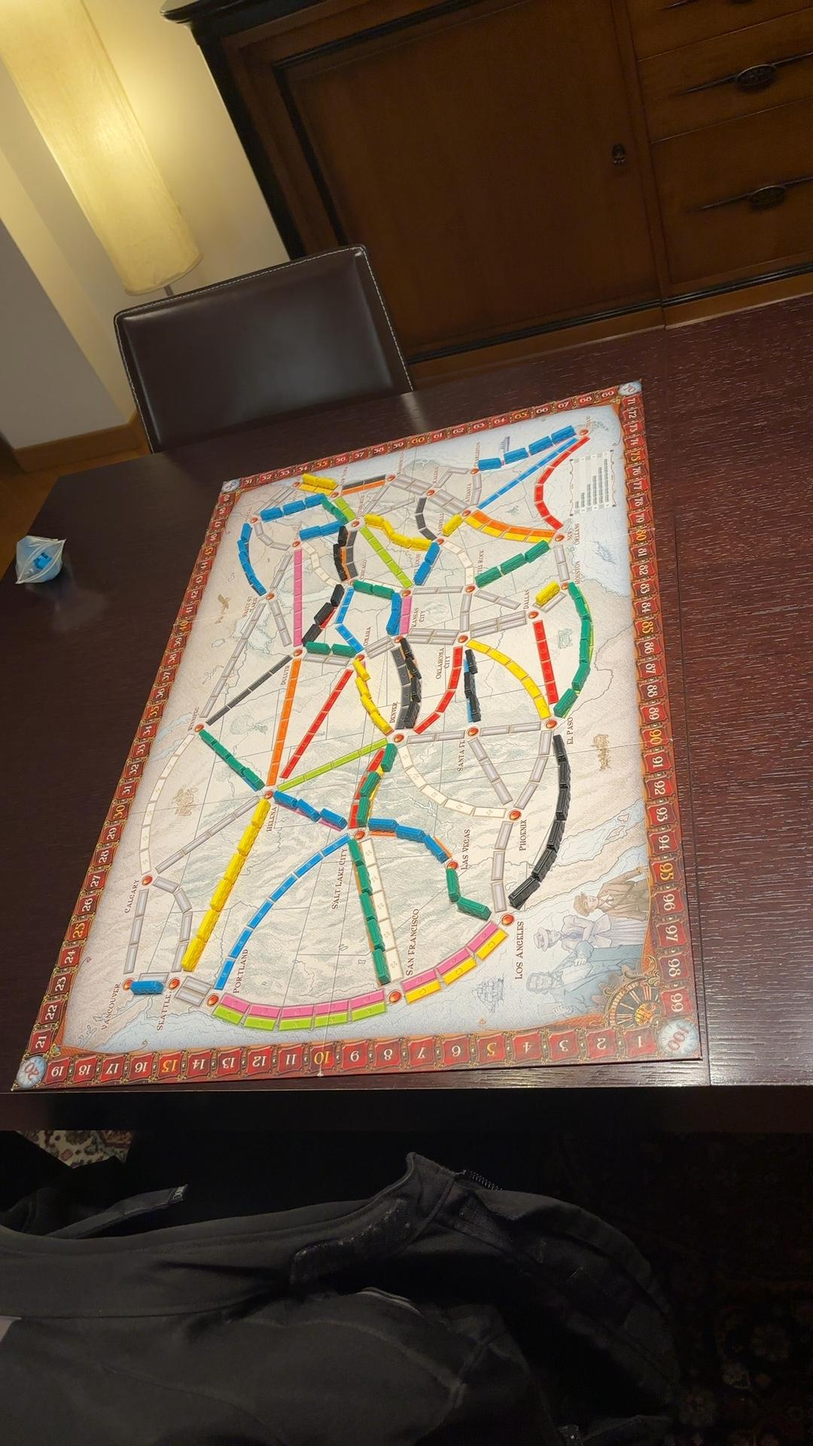black_train: (510, 876, 538, 909), (531, 849, 554, 883), (399, 695, 419, 727), (546, 821, 564, 850), (556, 786, 570, 818), (553, 734, 569, 762), (315, 604, 334, 626), (303, 622, 318, 643), (330, 584, 343, 607), (338, 525, 347, 546), (320, 123, 323, 124)
blue_train: (294, 800, 320, 821), (130, 978, 163, 994), (320, 809, 346, 828), (528, 436, 551, 455), (551, 426, 575, 444), (504, 447, 528, 464), (273, 791, 294, 810), (368, 818, 395, 832), (478, 457, 502, 470)
green_train: (360, 890, 390, 984), (458, 896, 491, 919), (353, 855, 372, 894), (458, 897, 491, 919), (554, 688, 576, 717), (365, 912, 382, 948), (323, 497, 345, 523), (373, 949, 389, 984), (446, 865, 460, 902), (501, 553, 524, 575), (524, 541, 549, 561), (362, 771, 382, 795), (381, 743, 397, 772), (357, 795, 371, 826), (573, 663, 588, 691), (476, 568, 499, 586), (349, 840, 363, 866), (331, 645, 355, 658), (306, 641, 330, 654)
yellow_train: (237, 822, 260, 856), (182, 936, 203, 970), (197, 908, 218, 941), (211, 882, 231, 911), (224, 854, 245, 881)
